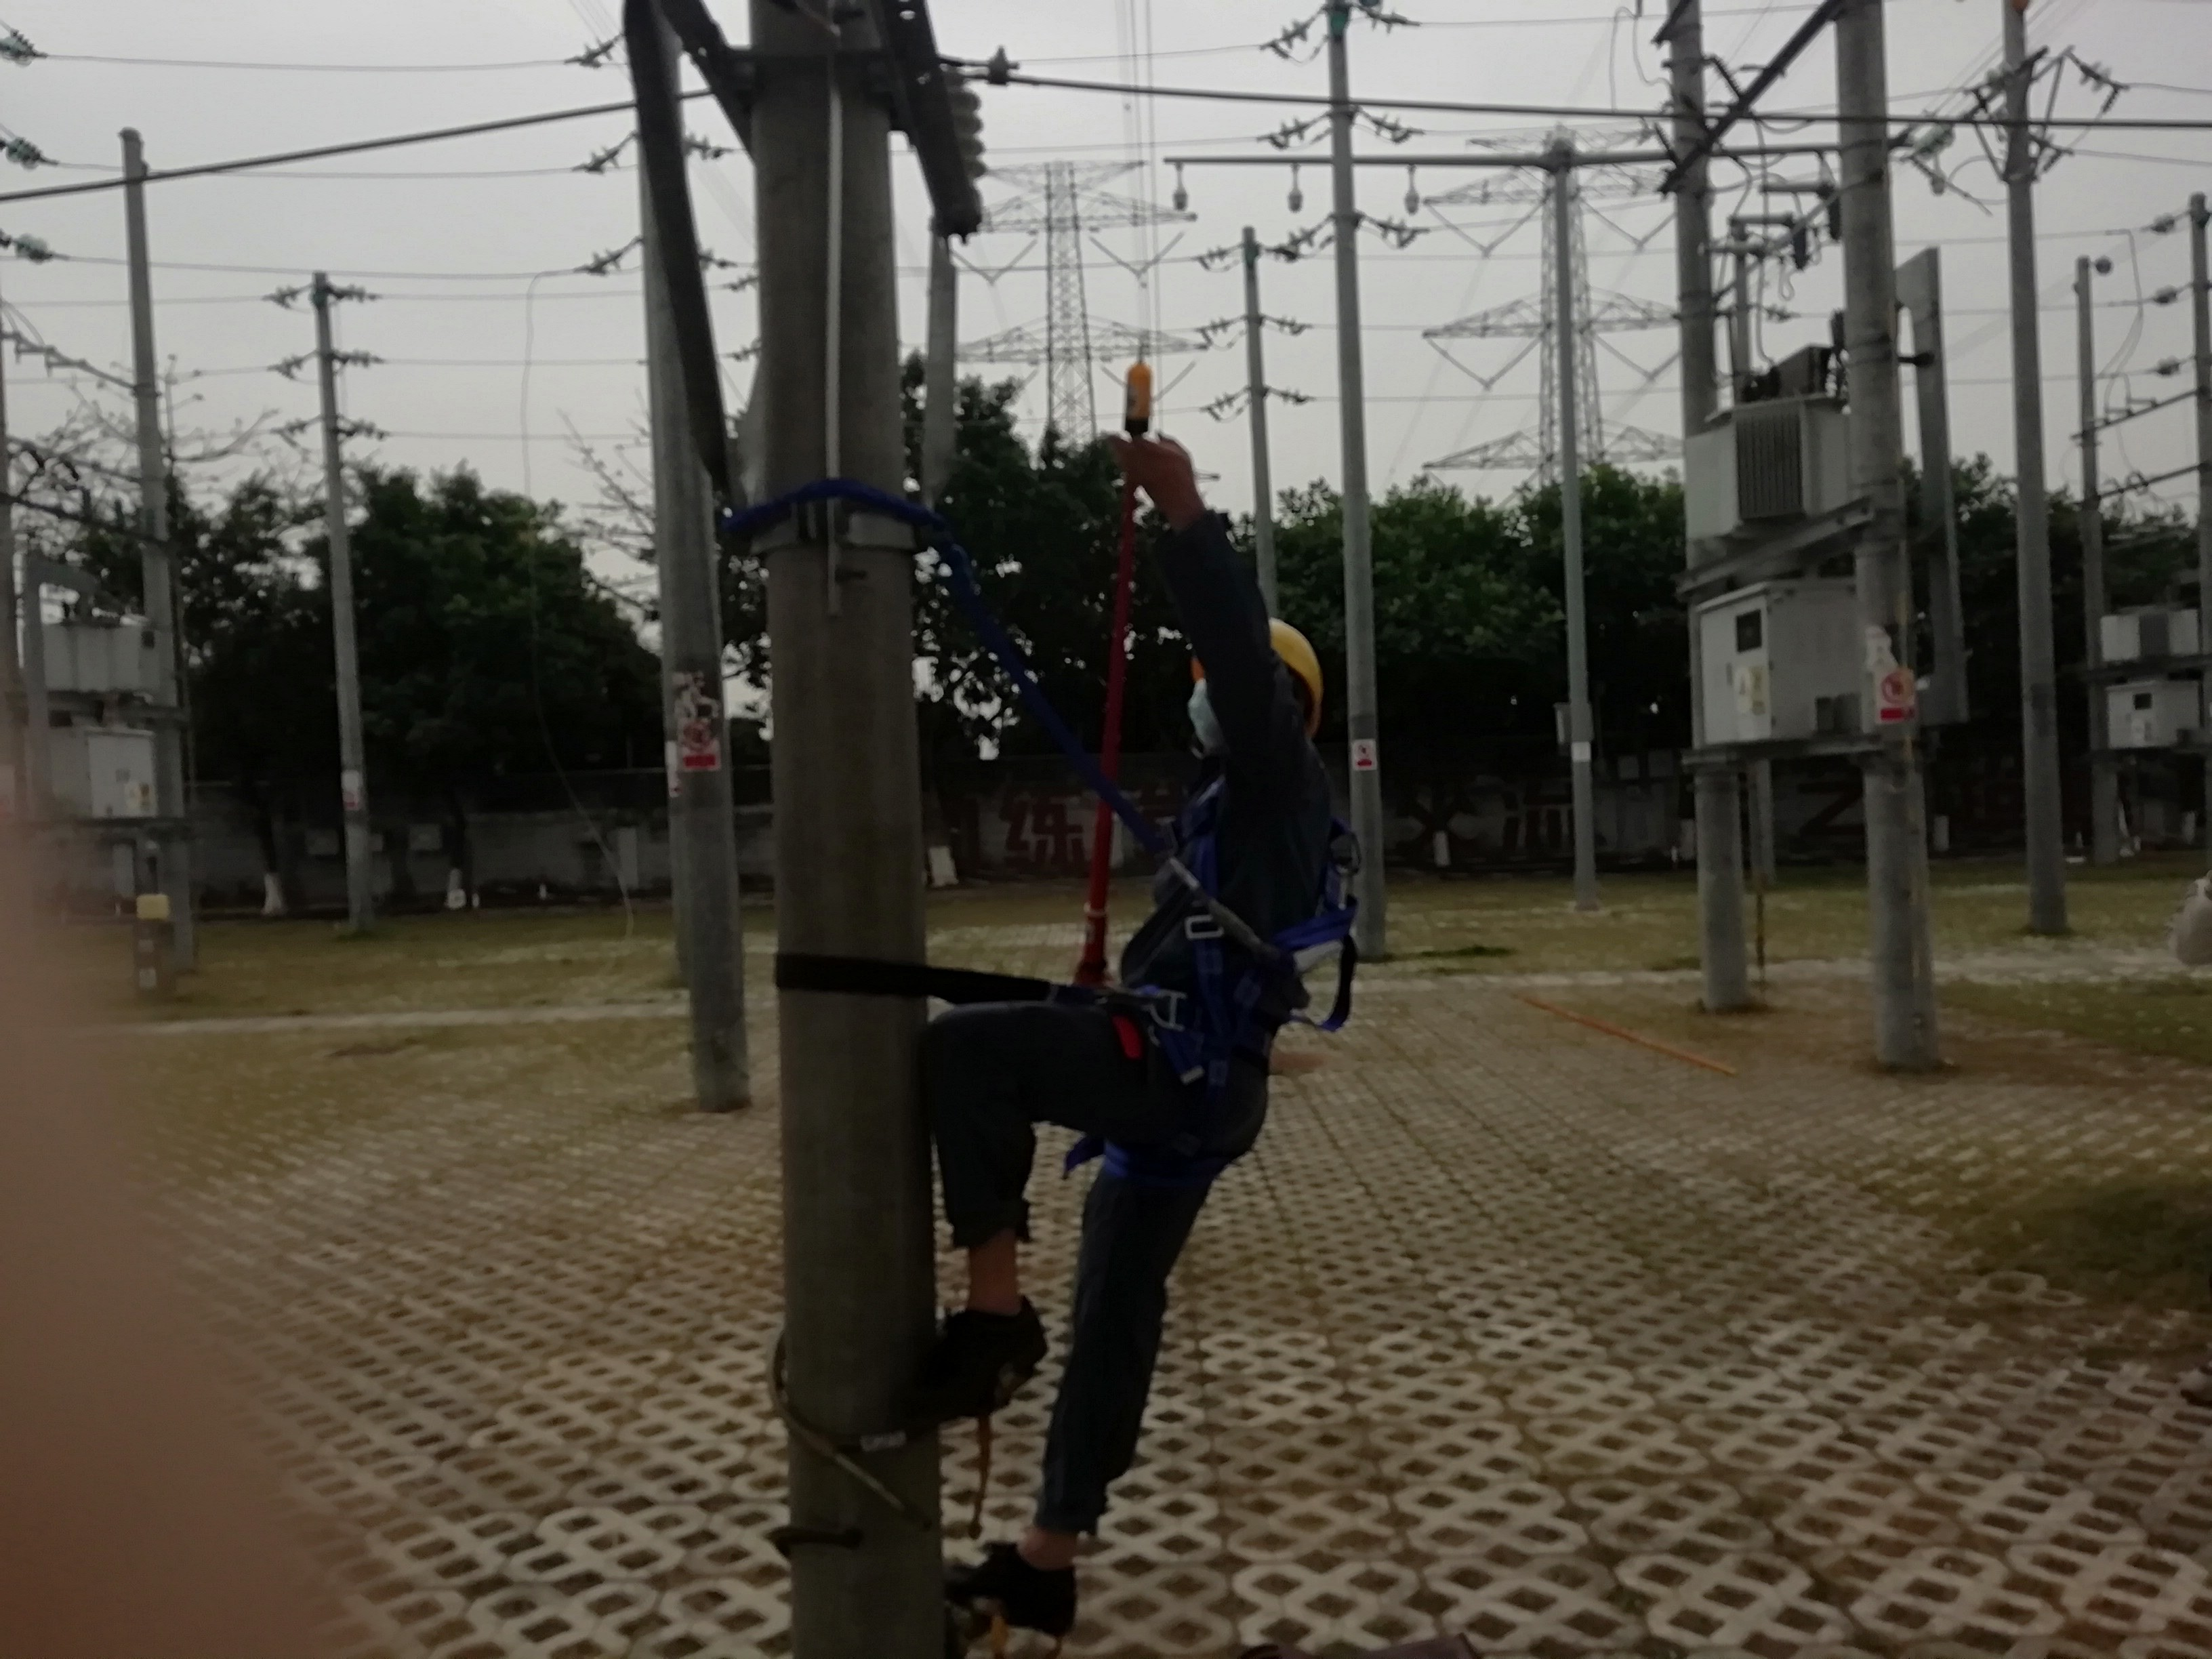downsuit: (935, 993, 1266, 1537)
upsuit: (1115, 572, 1350, 988)
